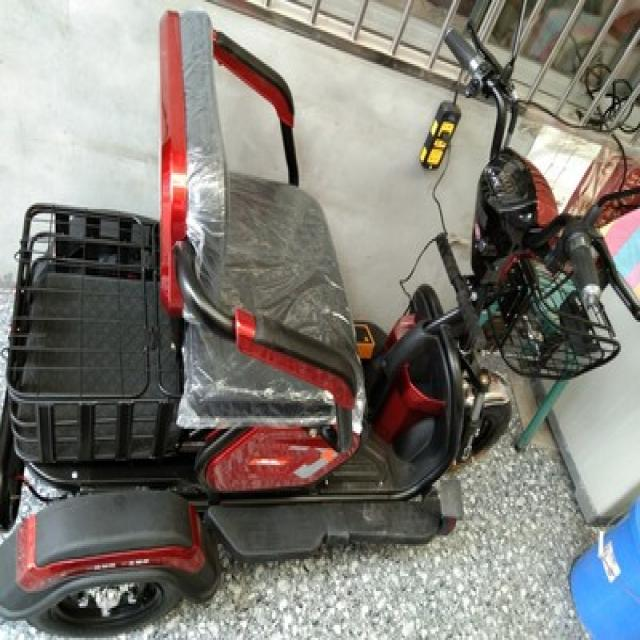tricycle: (4, 0, 638, 636)
